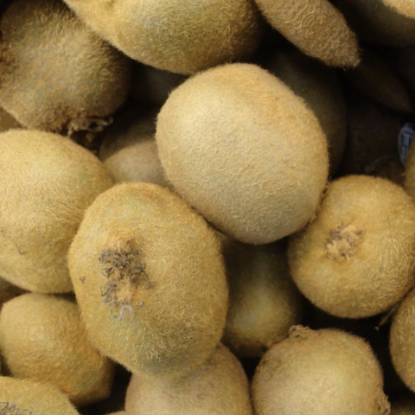kiwi: (110, 17, 391, 297), (11, 141, 291, 415), (249, 136, 415, 348), (0, 93, 153, 322)
